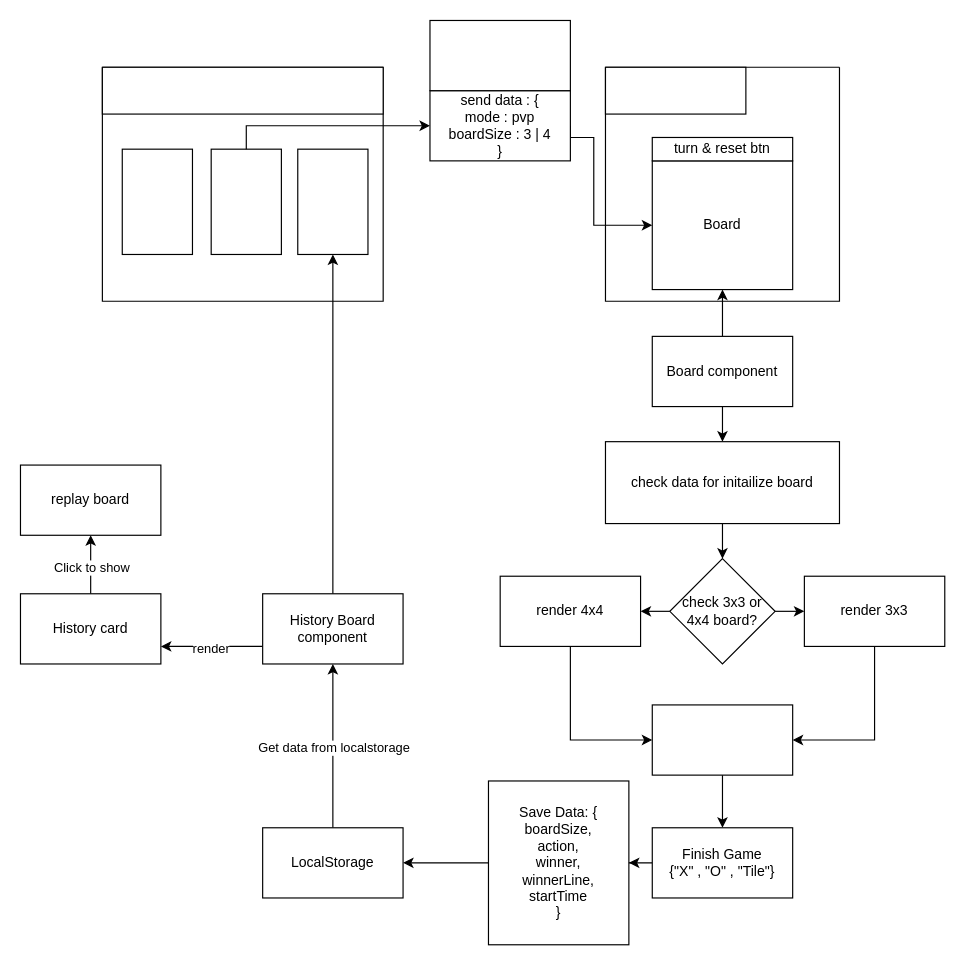
Some shapes in this 965 by 965 pixel diagram are drawn without their labels. Here are the shapes that lost their labels. From the top down, the box of each, then its label:
(429, 19, 570, 91): Click Button
(101, 66, 383, 114): Main menu pages
(604, 66, 746, 114): play pages
(121, 148, 192, 254): About
(210, 148, 281, 254): Menu
(297, 148, 368, 254): History board
(651, 704, 793, 775): check win every action
